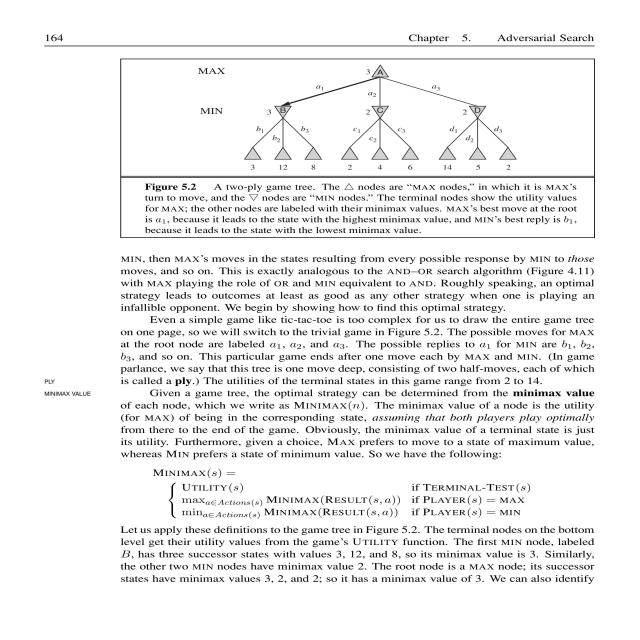diagram: (59, 52, 604, 240)
